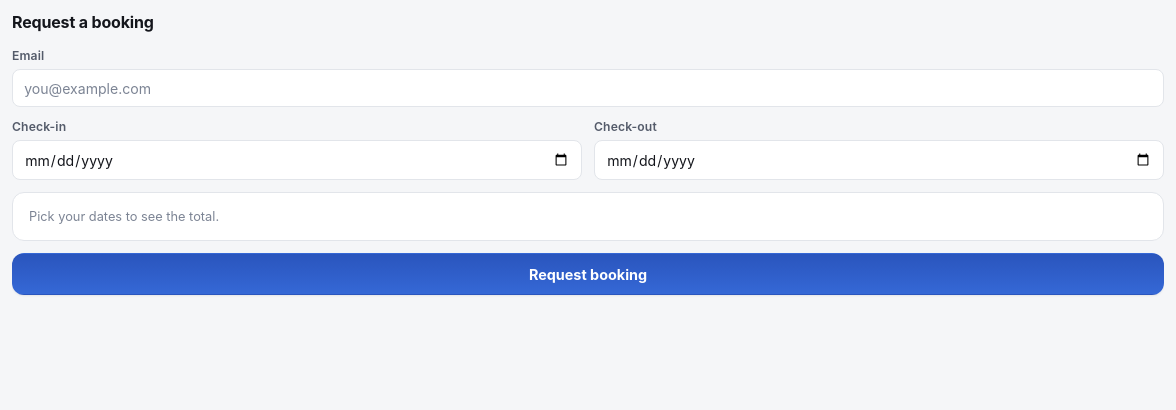
Test: BookingPanel › shows an availability error when the range is blacked out
The width and height of the screenshot is (1176, 410).
Type "a@b.co" into the field labelled "Email". click: [588, 88]
box: [12,69,1164,107]
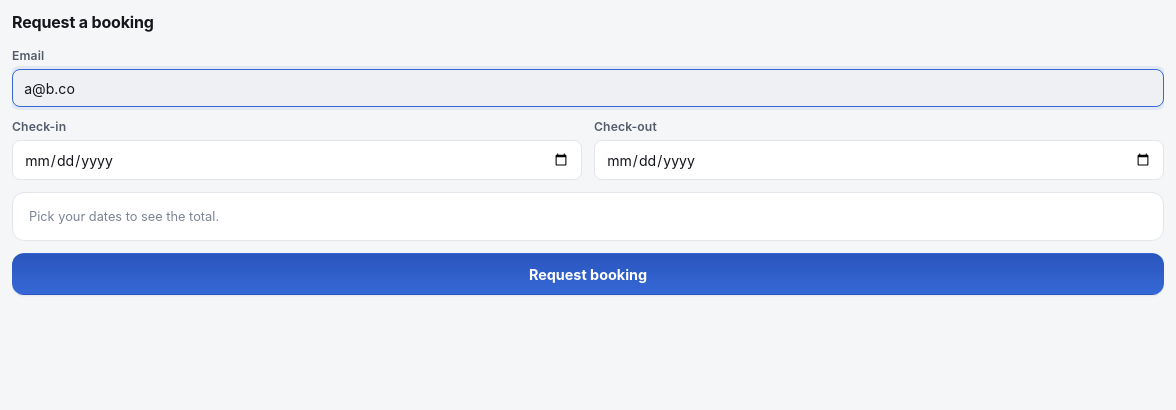
Type "2025-02-11" into the date field labelled "Check-in". click: [297, 160]
box: [12,140,582,180]
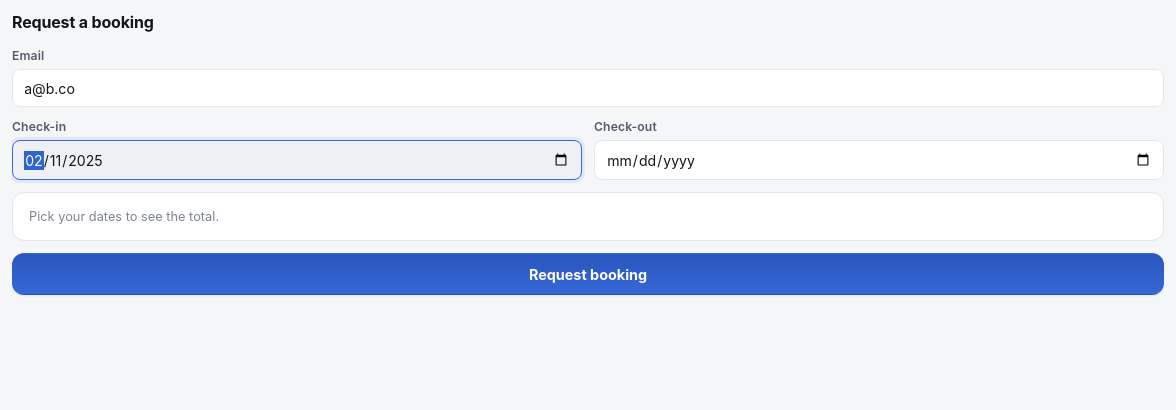
Type "2025-02-13" into the date field labelled "Check-out". click: [879, 160]
box: [594,140,1164,180]
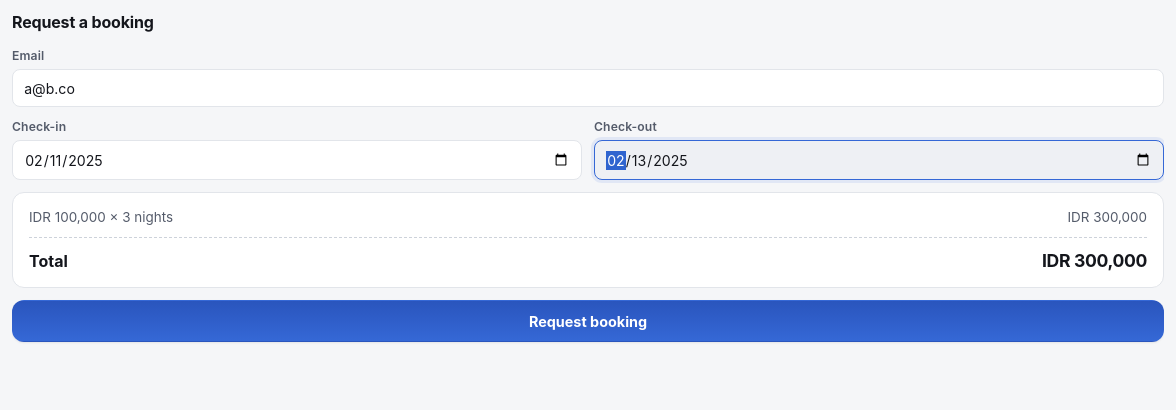
Click the button "Request booking". click: [588, 321]
box: [12,300,1164,342]
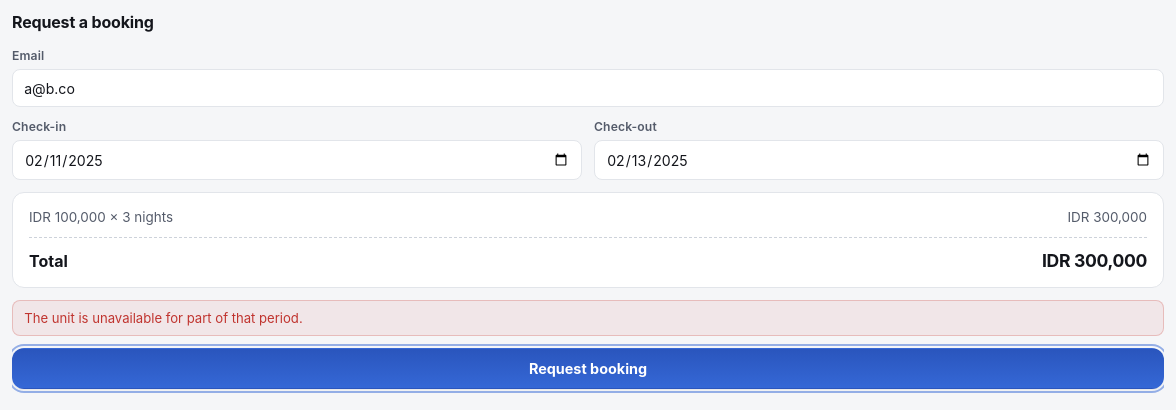
Expected: the message shows "unavailable", [24,310,303,326]
